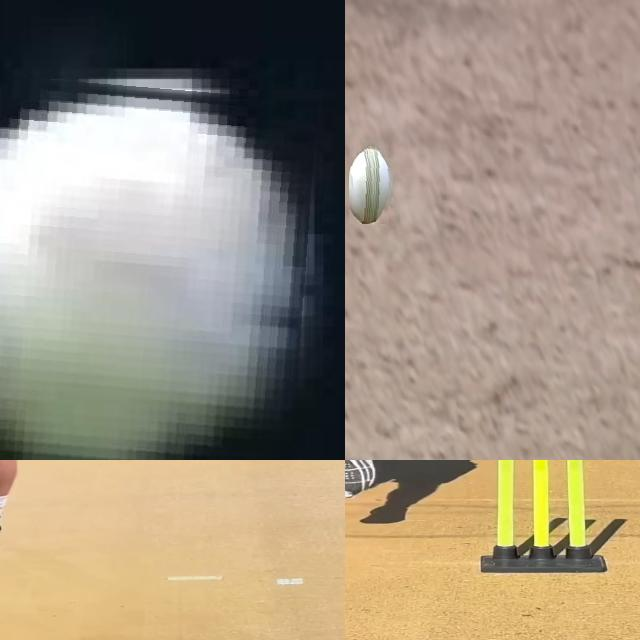Cricket ball: (0, 68, 317, 460), (349, 145, 394, 224)
Stumps: (478, 460, 606, 573)
